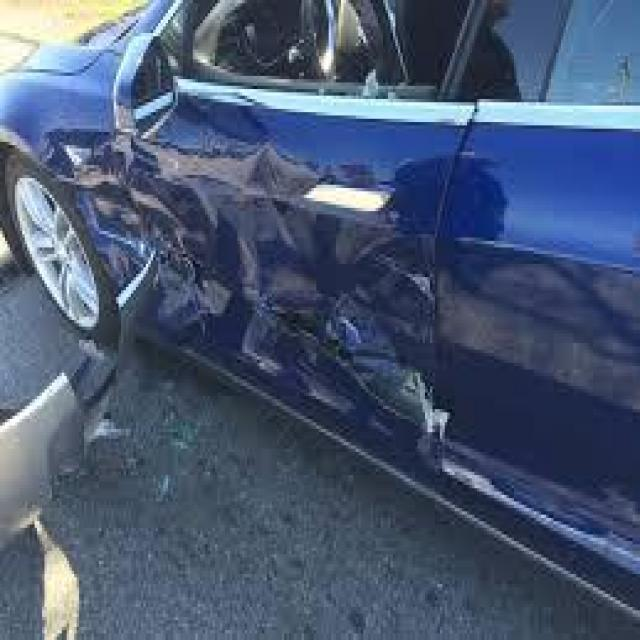damaged: (74, 138, 457, 462)
